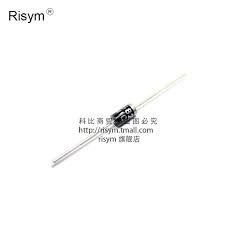diode: (90, 89, 154, 148)
